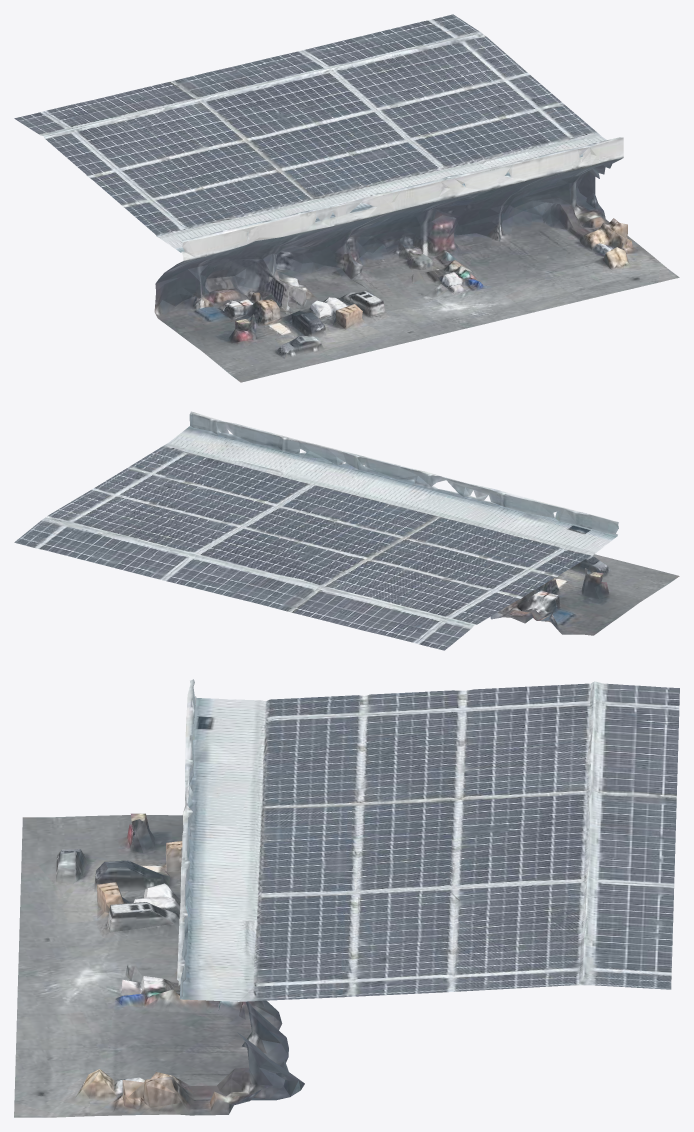
File: Tile_+005_+008_L19_0uuuu3.glb
3 views of the same model, one above another, from view 1: azimuth 30°, elevation 25°; view 2: azimuth 150°, elevation 25°; view 3: azimuth 270°, elevation 25° (orthographic). The views are drawn at different scales.
Visible parts, largest first — view 1: rtc; view 2: rtc; view 3: rtc.
Part boxes in pixels (x1,y1,x2,y2): rtc: [14, 14, 679, 382]; rtc: [14, 411, 679, 650]; rtc: [14, 679, 679, 1117].
Bounding box in the file's own units: 53.68 × 11.49 × 49.52.
Materials: 4 (4 with a texture image).
